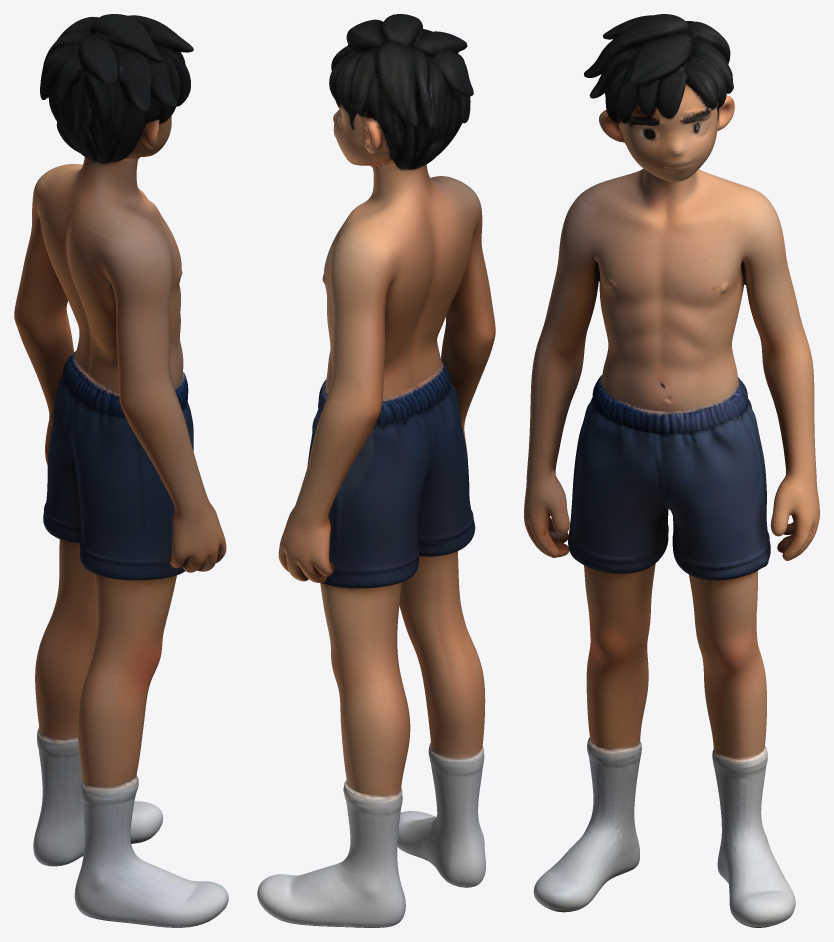
File: Kluk_JR.glb
The picture shows the model from 3 angles, left to right: view 1: azimuth 30°, elevation 25°; view 2: azimuth 150°, elevation 25°; view 3: azimuth 270°, elevation 25°; orthographic projection.
Visible parts, largest first — view 1: tripo_node_1caa5e45-0890-42d0-9f91-d84d95d626fb; view 2: tripo_node_1caa5e45-0890-42d0-9f91-d84d95d626fb; view 3: tripo_node_1caa5e45-0890-42d0-9f91-d84d95d626fb.
Part boxes in pixels (left/top/right/bottom): tripo_node_1caa5e45-0890-42d0-9f91-d84d95d626fb: left=14, top=14, right=228, bottom=927; tripo_node_1caa5e45-0890-42d0-9f91-d84d95d626fb: left=257, top=14, right=495, bottom=927; tripo_node_1caa5e45-0890-42d0-9f91-d84d95d626fb: left=524, top=14, right=819, bottom=927.
Size of the model in its own units: 0.1895 by 1 by 0.3068.
1 material, 1 textured.
